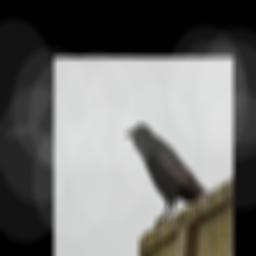Crow: (125, 122, 208, 228)
